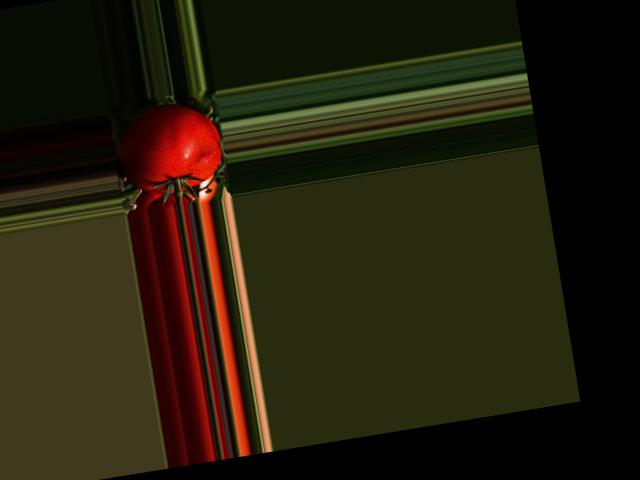tomato: (113, 97, 227, 199)
